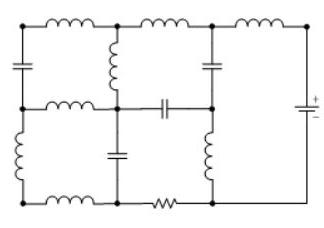Capacitor: (185, 43, 230, 81)
